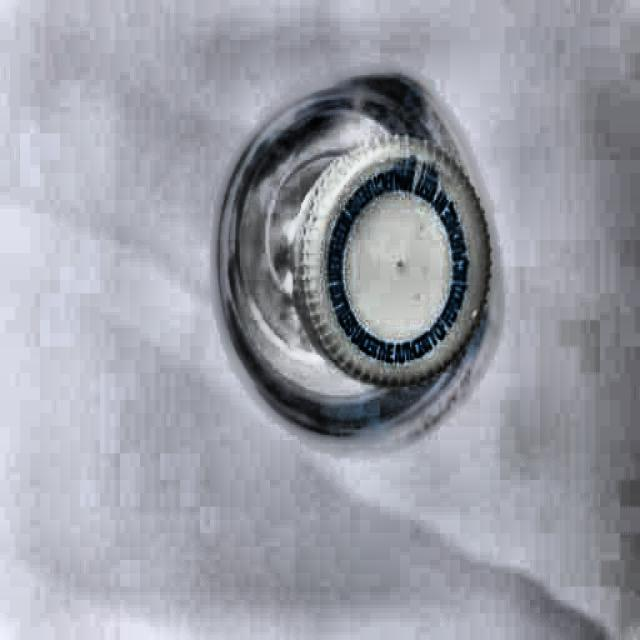plastic: (218, 81, 501, 451)
